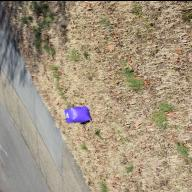cube: (64, 106, 92, 122)
